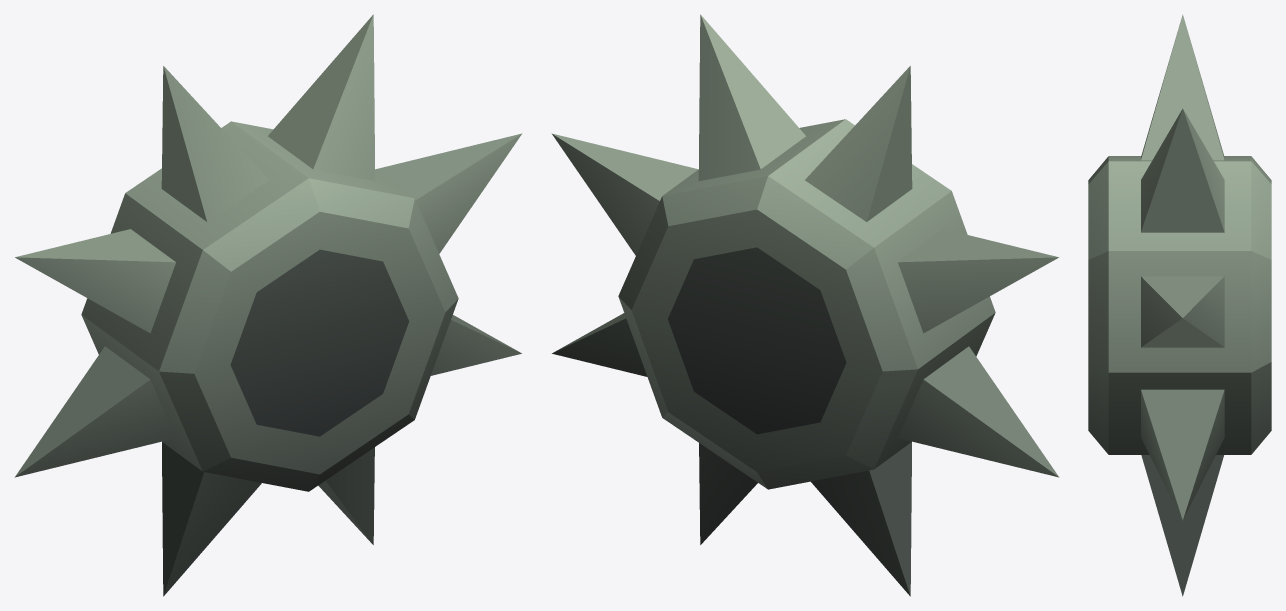
The model's file is decor_013.fbx.
3 views of the same model, side by side, from view 1: azimuth 30°, elevation 25°; view 2: azimuth 150°, elevation 25°; view 3: azimuth 270°, elevation 25° (orthographic). The views are drawn at different scales.
Visible parts, largest first — view 1: decor.013; view 2: decor.013; view 3: decor.013.
Part boxes in pixels (left/top/right/bottom): decor.013: left=14, top=14, right=522, bottom=596; decor.013: left=551, top=14, right=1059, bottom=596; decor.013: left=1088, top=14, right=1271, bottom=596.
Bounding box in the file's own units: 29.8 × 29.8 × 10.14.
